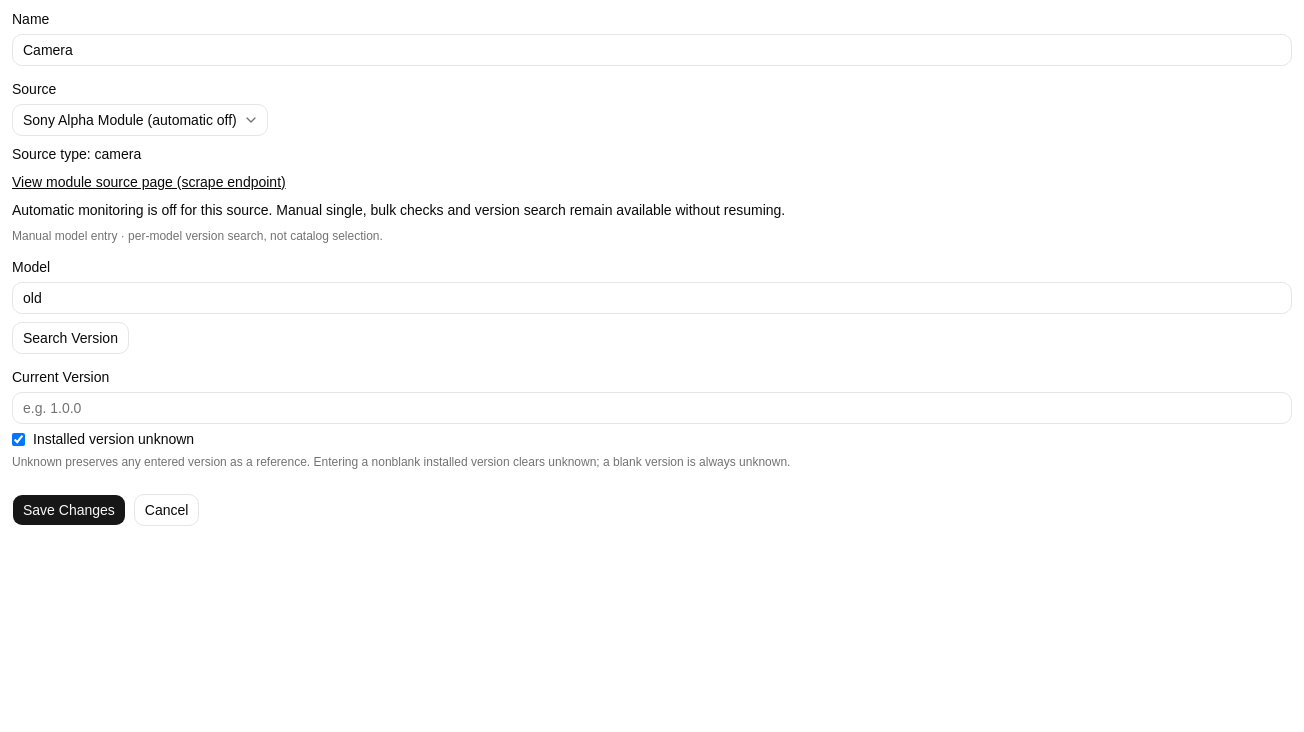
DeviceForm › keeps unknown installed state after a successful reference search
The image size is (1304, 732).
Expected: the field labelled "Current Version" is empty, top-left (12, 392), bottom-right (1292, 424)
Click the button "Search Version": coordinates (70, 338) top-left (12, 322), bottom-right (129, 354)
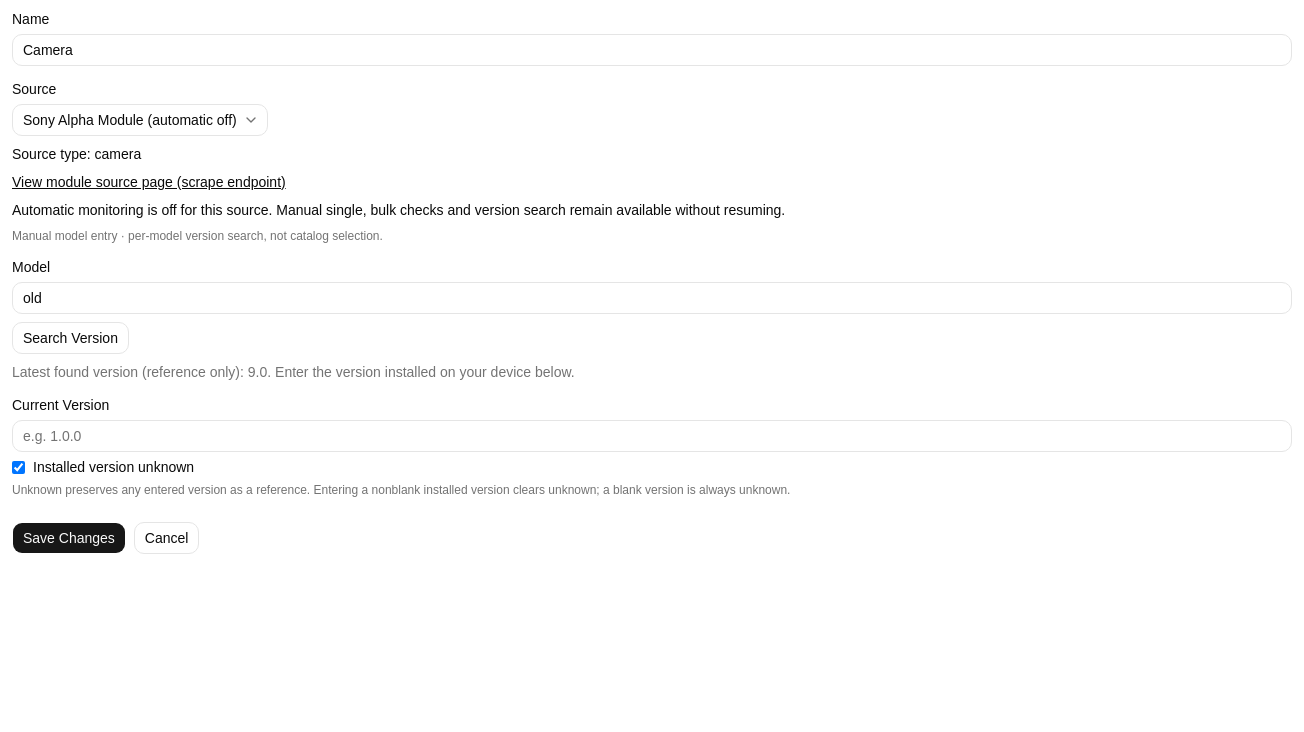
Expected: the field labelled "Current Version" is empty, top-left (12, 420), bottom-right (1292, 452)
Now the message named "Version search reference" shows "9.0", box top-left (248, 364), bottom-right (267, 380)
